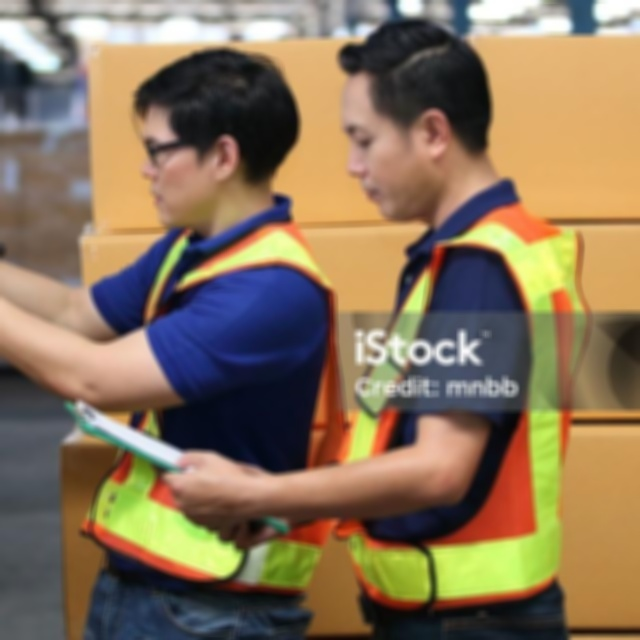Con_Chaleco: (109, 230, 341, 578)
Sin_Casco_Mascarrilla: (335, 21, 493, 223), (130, 51, 298, 231)
